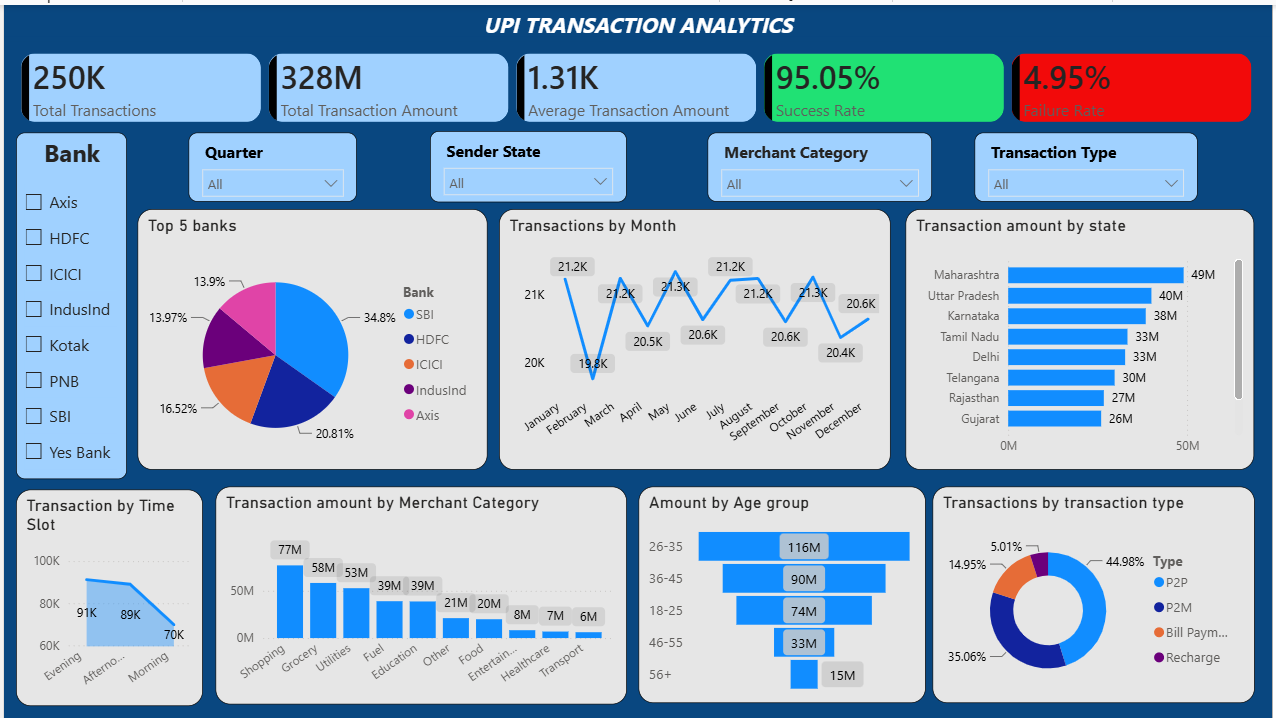

What the dashboard file says about the page in this screenshot:
{"tool":"powerbi","page":{"name":"Page 1","canvas":[1280,720],"ordinal":0},"visuals":[{"type":"textbox","box":[0,0,1280,38.3],"z":0},{"type":"cardVisual","fields":{"Data":["Count(upi_transactions_2024.transaction id)","Sum(upi_transactions_2024.amount (INR))","Avg(upi_transactions_2024.amount (INR))","upi_transactions_2024.Success Rate","upi_transactions_2024.Failure Rate"]},"box":[0,31.7,1280,103.3],"z":1000},{"type":"listSlicer","title":"Bank","fields":{"Values":["upi_transactions_2024.sender_bank"]},"box":[11.7,128.3,111.7,350],"z":2000},{"type":"listSlicer","fields":{"Values":["upi_transactions_2024.sender_state"]},"box":[168.3,223.3,130,25],"z":3000},{"type":"lineChart","fields":{"Y":["CountNonNull(upi_transactions_2024.transaction id)"],"Category":["upi_transactions_2024.Date.Variation.Date Hierarchy.Month"]},"box":[500,206.7,395,263.3],"z":4000},{"type":"pieChart","title":"Top 5 banks","fields":{"Category":["upi_transactions_2024.sender_bank"],"Y":["CountNonNull(upi_transactions_2024.transaction id)"]},"box":[135,206.7,353.3,263.3],"z":5000},{"type":"barChart","title":"Transaction amount by state","fields":{"Category":["upi_transactions_2024.sender_state"],"Y":["Sum(upi_transactions_2024.amount (INR))"]},"box":[910,206.7,351.7,263.3],"z":6000},{"type":"donutChart","title":"Transactions by transaction type","fields":{"Category":["upi_transactions_2024.transaction type"],"Y":["Count(upi_transactions_2024.transaction id)"]},"box":[936.7,486.7,325,218.3],"z":7000},{"type":"columnChart","title":"Transaction amount by Merchant Category","fields":{"Category":["upi_transactions_2024.merchant_category"],"Y":["Sum(upi_transactions_2024.amount (INR))"]},"box":[213.3,486.7,415,220],"z":8000},{"type":"stackedAreaChart","title":"Transaction by Time Slot","fields":{"Category":["upi_transactions_2024.Time Slot"],"Y":["CountNonNull(upi_transactions_2024.transaction id)"]},"box":[11.7,488.3,188.3,218.3],"z":9000},{"type":"funnel","title":"Amount by Age group","fields":{"Category":["upi_transactions_2024.sender_age_group"],"Y":["Sum(upi_transactions_2024.amount (INR))"]},"box":[640,486.7,290,218.3],"z":10000},{"type":"slicer","title":"Merchant Category","fields":{"Values":["upi_transactions_2024.merchant_category"]},"box":[710,128.3,226.7,70],"z":11000},{"type":"slicer","fields":{"Values":["upi_transactions_2024.Date.Variation.Date Hierarchy.Quarter"]},"box":[186.7,128.3,170,70],"z":12000},{"type":"slicer","fields":{"Values":["upi_transactions_2024.sender_state"]},"box":[430,126.7,198.3,71.7],"z":13000},{"type":"slicer","fields":{"Values":["upi_transactions_2024.transaction type"]},"box":[980,128.3,225,70],"z":14000}]}

Visuals, with their boxes in screenshot pixels (x1, y1, x2, y2), scaled from the page's 1280x720 canvas onto the 1276x718 screenshot:
textbox: bbox=[0, 0, 1275, 38]
cardVisual - Count(upi_transactions_2024.transaction id) x Sum(upi_transactions_2024.amount (INR)): bbox=[0, 32, 1275, 135]
"Bank" listSlicer: bbox=[12, 128, 123, 477]
listSlicer - upi_transactions_2024.sender_state: bbox=[168, 223, 297, 248]
lineChart - CountNonNull(upi_transactions_2024.transaction id) x upi_transactions_2024.Date.Variation.Date Hierarchy.Month: bbox=[498, 206, 892, 469]
"Top 5 banks" pieChart: bbox=[135, 206, 487, 469]
"Transaction amount by state" barChart: bbox=[907, 206, 1258, 469]
"Transactions by transaction type" donutChart: bbox=[934, 485, 1258, 703]
"Transaction amount by Merchant Category" columnChart: bbox=[213, 485, 626, 705]
"Transaction by Time Slot" stackedAreaChart: bbox=[12, 487, 199, 705]
"Amount by Age group" funnel: bbox=[638, 485, 927, 703]
"Merchant Category" slicer: bbox=[708, 128, 934, 198]
slicer - upi_transactions_2024.Date.Variation.Date Hierarchy.Quarter: bbox=[186, 128, 356, 198]
slicer - upi_transactions_2024.sender_state: bbox=[429, 126, 626, 198]
slicer - upi_transactions_2024.transaction type: bbox=[977, 128, 1201, 198]
